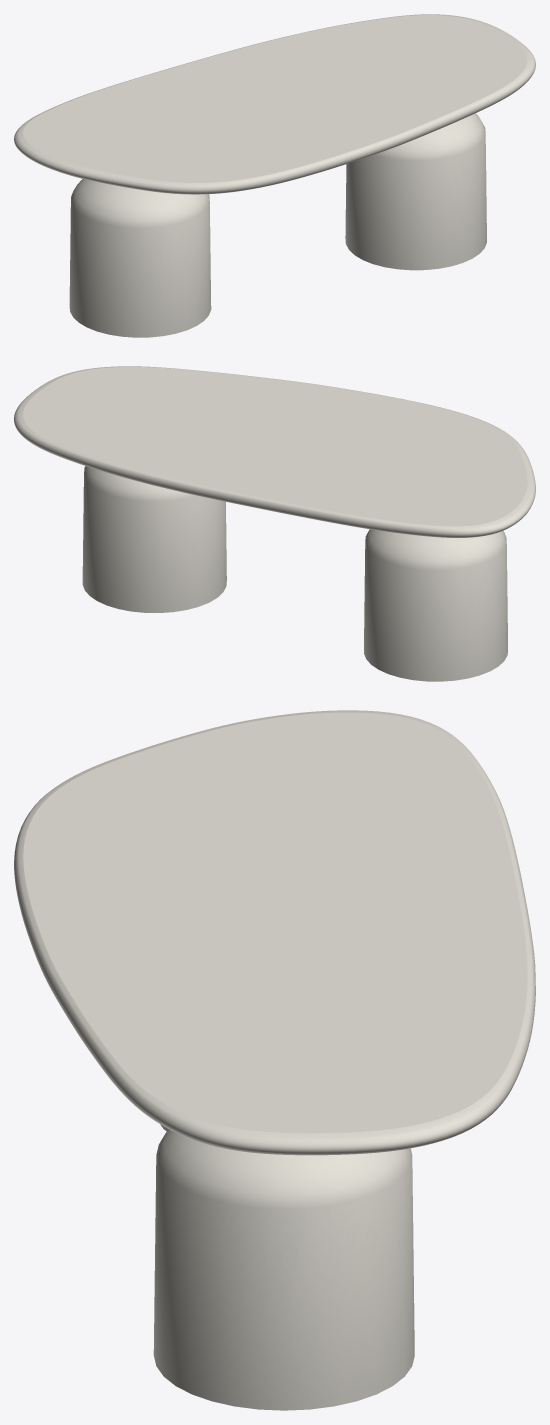
Rendered from pale_leaf2_round_tornado.glb.
3 views of the same model, one above another, from view 1: azimuth 30°, elevation 25°; view 2: azimuth 150°, elevation 25°; view 3: azimuth 270°, elevation 25° (orthographic). The views are drawn at different scales.
Visible parts, largest first — view 1: round_leaf2, tornado; view 2: round_leaf2, tornado; view 3: round_leaf2, tornado.
Boxes of the visible parts, x1,y1,x2,y2 form: round_leaf2: (14,14,535,194); tornado: (69,113,486,337); round_leaf2: (14,366,535,537); tornado: (82,466,507,681); round_leaf2: (14,710,535,1155); tornado: (153,1124,414,1410).
Bounding box in the file's own units: 7.5 × 2.52 × 3.8.
1 material, 1 textured.
